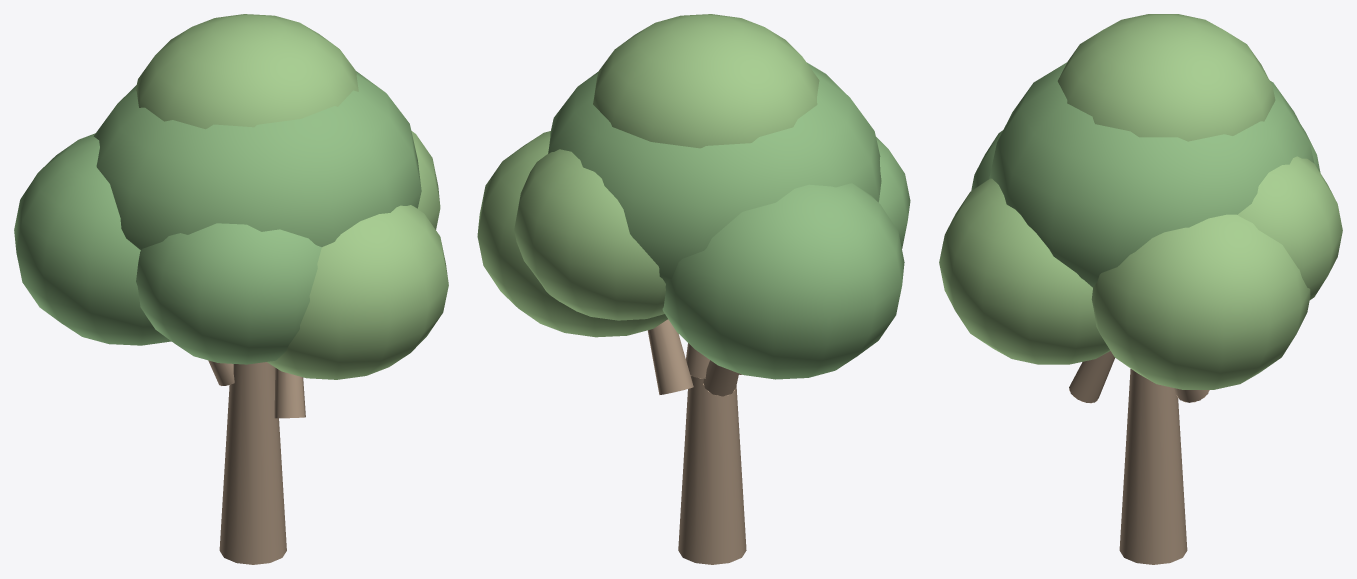
File: Tree_Realistic_Oak.fbx
The picture shows the model from 3 angles, left to right: view 1: azimuth 30°, elevation 25°; view 2: azimuth 150°, elevation 25°; view 3: azimuth 270°, elevation 25°; orthographic projection.
Parts seen in each view (by area): view 1: Tree_Realistic_Oak; view 2: Tree_Realistic_Oak; view 3: Tree_Realistic_Oak.
Part boxes in pixels (bbox=[...]): Tree_Realistic_Oak: bbox=[14, 14, 448, 564]; Tree_Realistic_Oak: bbox=[477, 14, 910, 564]; Tree_Realistic_Oak: bbox=[939, 14, 1342, 564].
Size of the model in its own units: 459 by 580 by 405.
